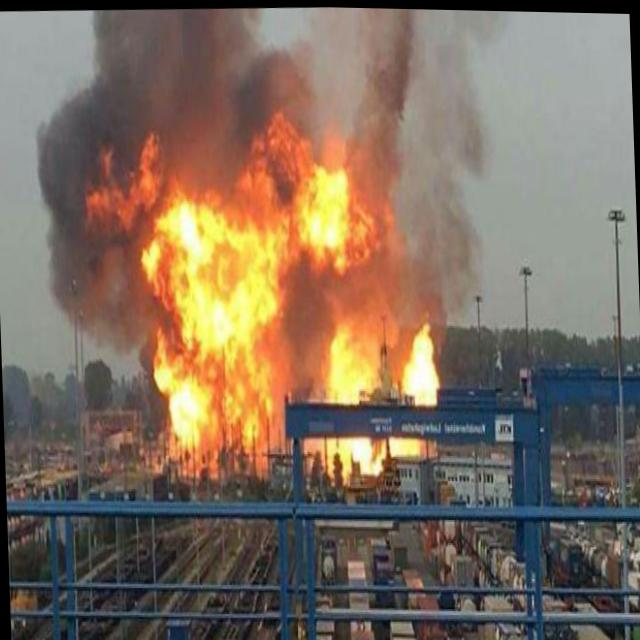fire: (75, 92, 391, 488), (382, 310, 452, 463)
